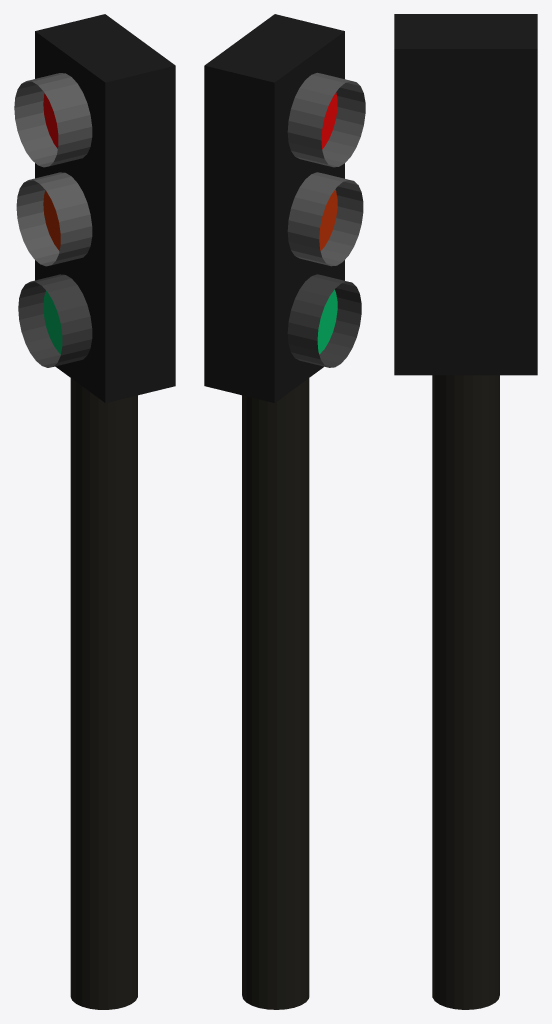
The model's file is Traffic_Light.mtl.obj.
The picture shows the model from 3 angles, left to right: view 1: azimuth 30°, elevation 25°; view 2: azimuth 150°, elevation 25°; view 3: azimuth 270°, elevation 25°; orthographic projection.
Visible parts, largest first — view 1: Cube; view 2: Cube; view 3: Cube.
Boxes of the visible parts, x1,y1,x2,y2 form: Cube: (14, 14, 175, 1009); Cube: (204, 14, 365, 1009); Cube: (394, 14, 537, 1009).
Bounding box in the file's own units: 0.2958 × 2.58 × 0.3471.
